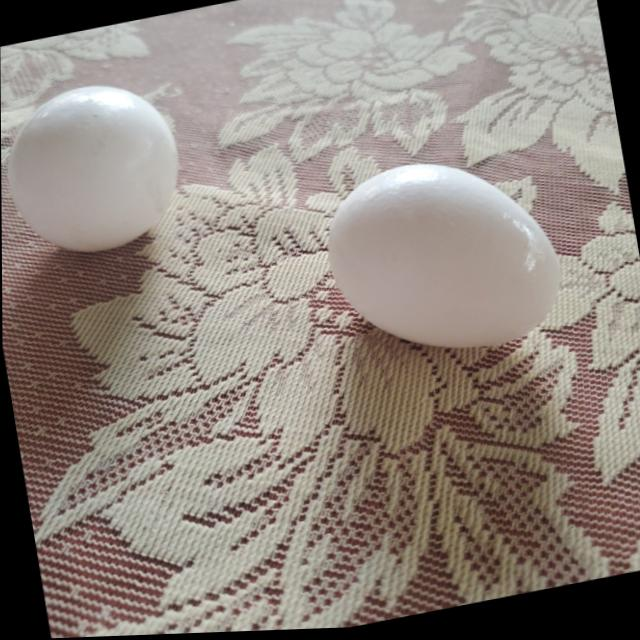egg: (317, 146, 565, 372), (1, 69, 193, 263)
